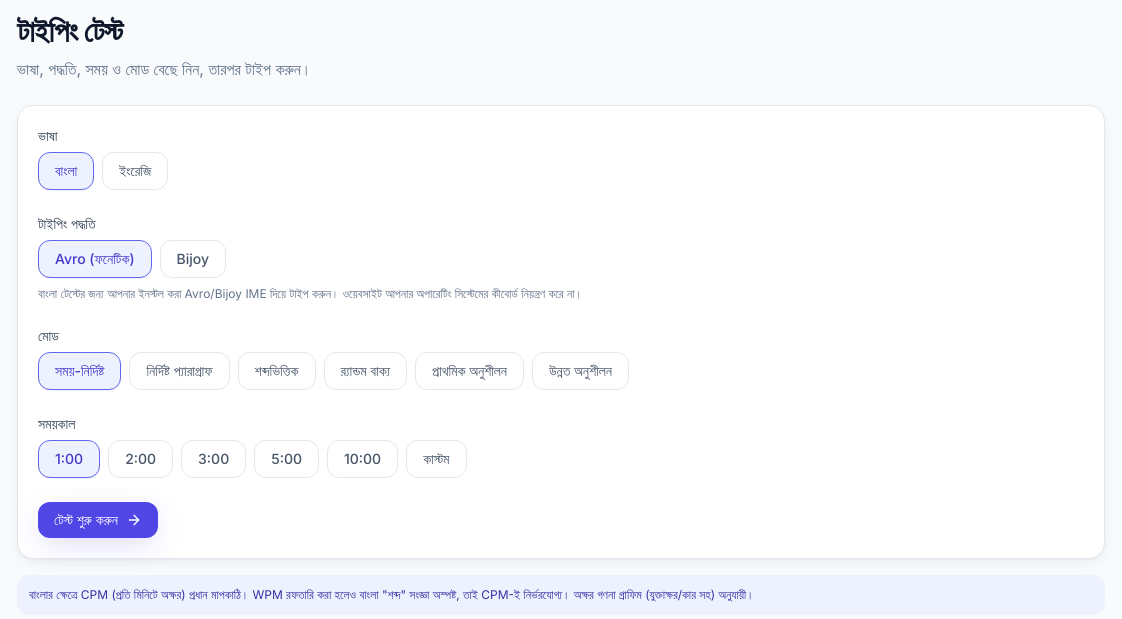
TypingTest configuration › keeps a chosen Bangla method while the language stays Bangla
This screenshot has width=1122, height=619.
Step 1. Click the radio button labelled "Bijoy" → (193, 259), box [160,240,226,278]
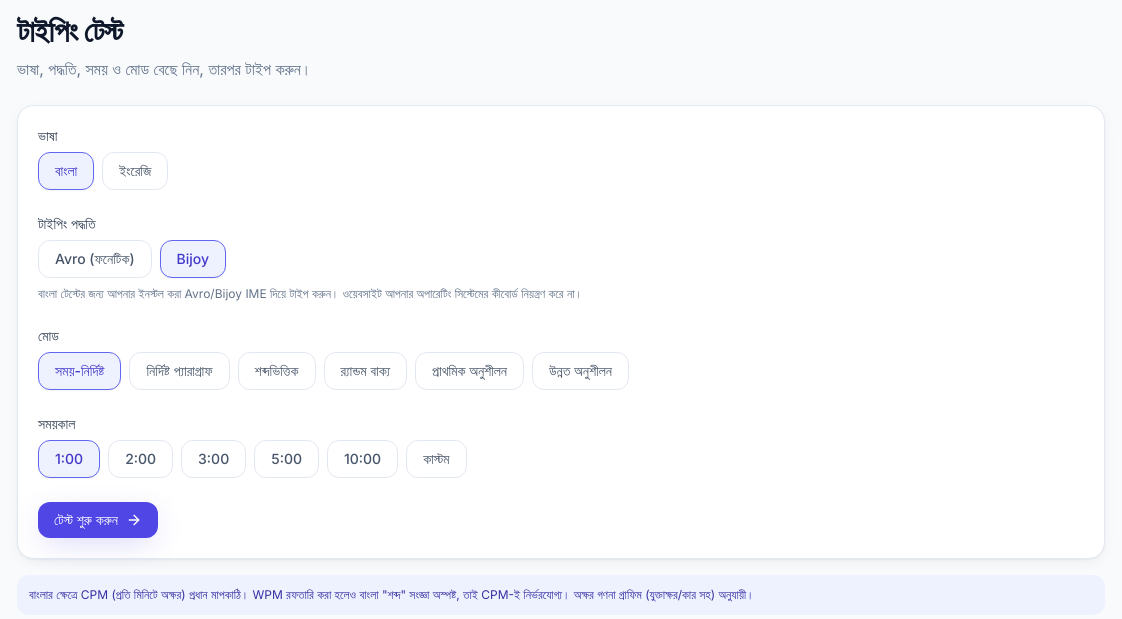
Expected: the radio button labelled "Bijoy" is checked, [160,240,226,278]
Expected: the radio button labelled "Avro (ফনেটিক)" is not checked, [38,240,152,278]
